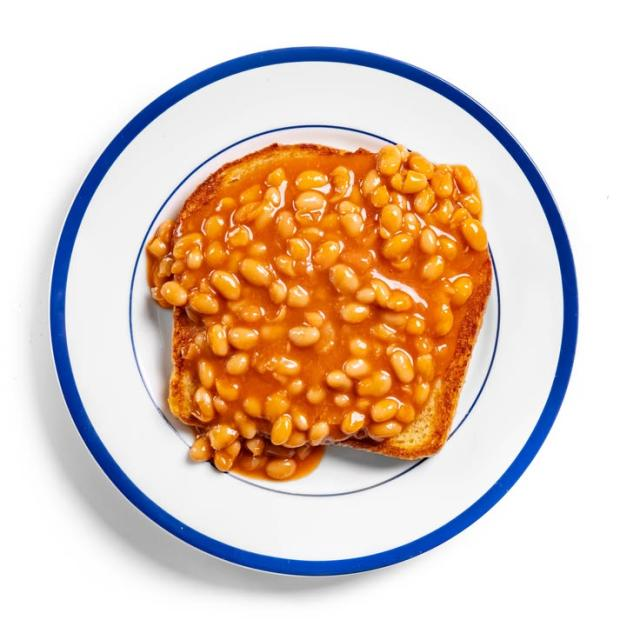sliced_bread: (148, 143, 491, 477)
